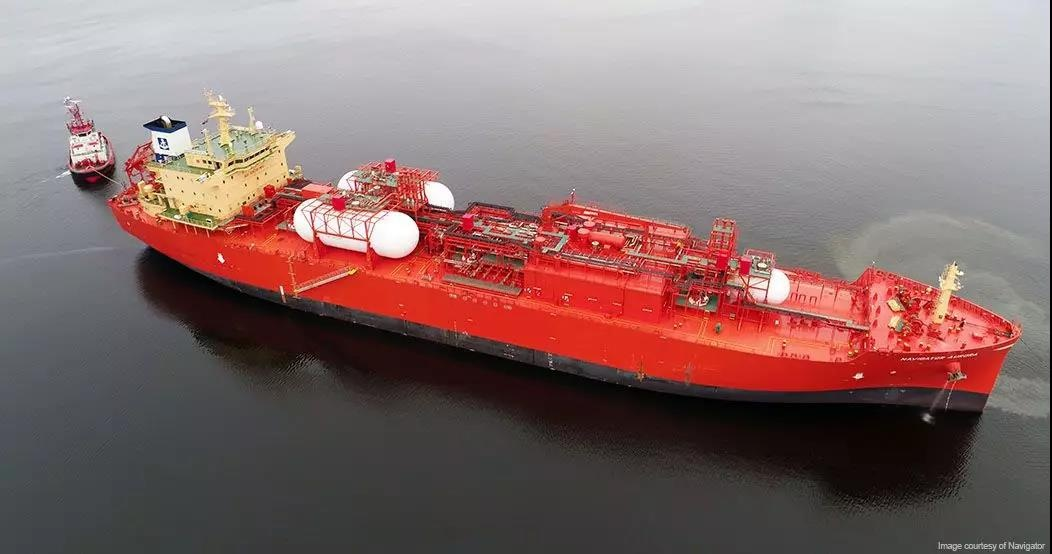Cargoship: (105, 116, 1027, 419)
otherboat: (55, 96, 115, 190)
